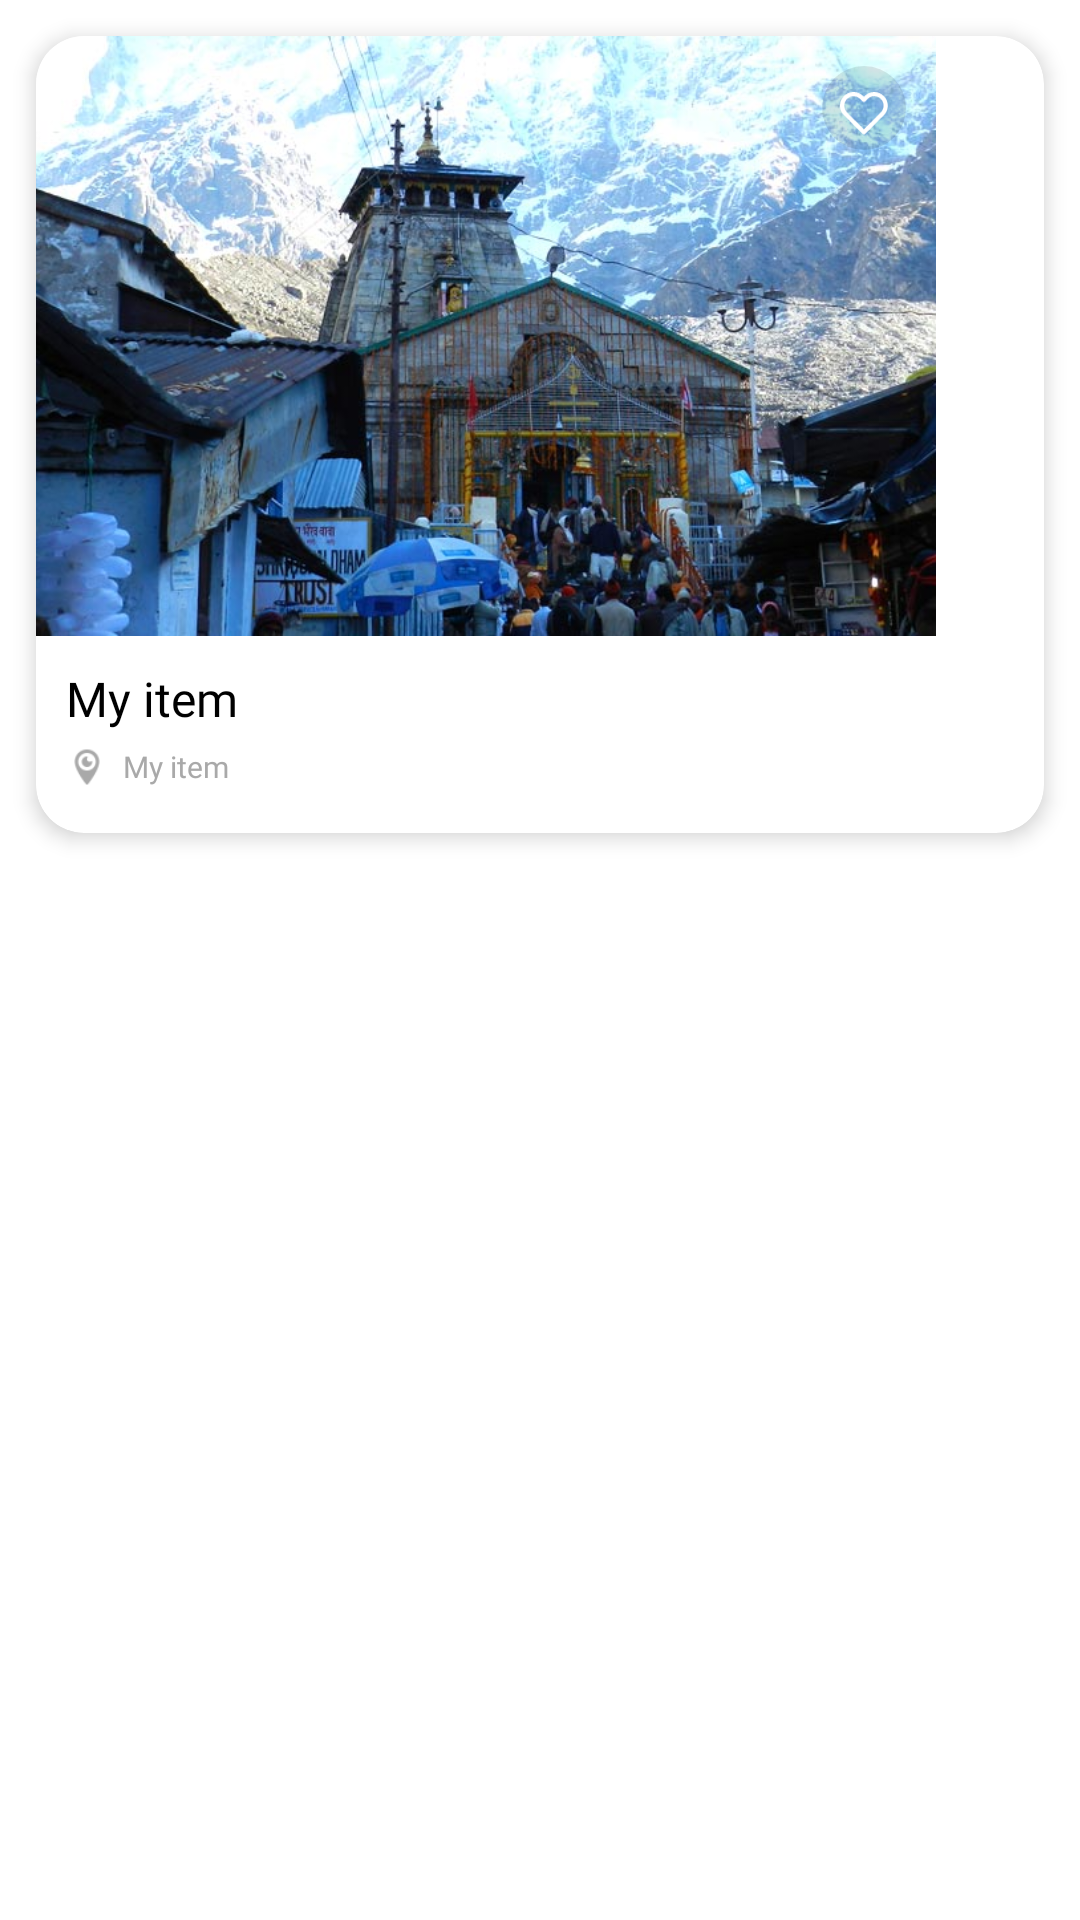

Locate icon controls on the screen. Image size 1080 × 1920, boxes as (x1, y1, x2, y2).
smol location: (74, 749, 100, 785)
